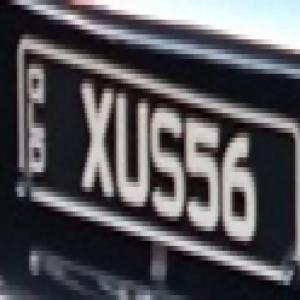Plate: (8, 20, 300, 290)
